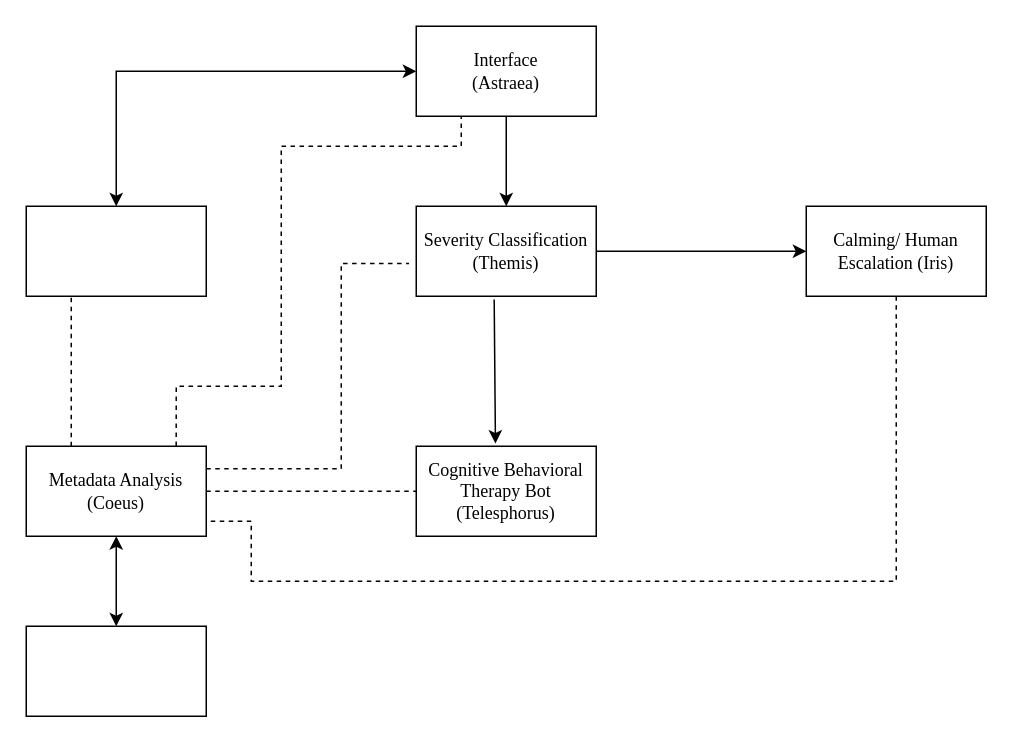
The diagram is 1013 pixels wide and 743 high, and some of its shapes have lost their labels. Here are the shapes that lost their labels. From the top down, the centre of each, then its label:
At [115,250]: "General Empathetic Conversation (Epione)".
At [115,670]: "System Analyst (Hephaestus)".
